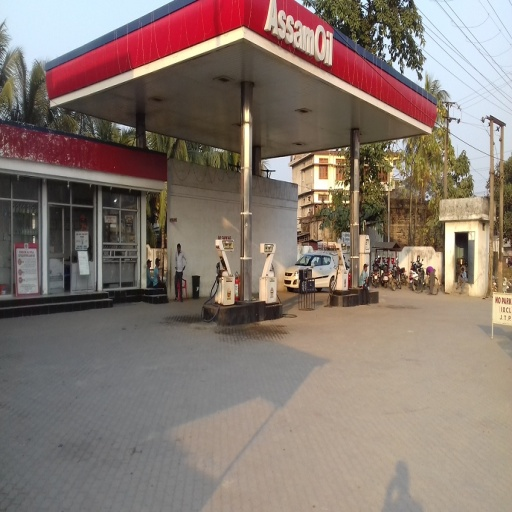roof: (46, 2, 435, 161)
